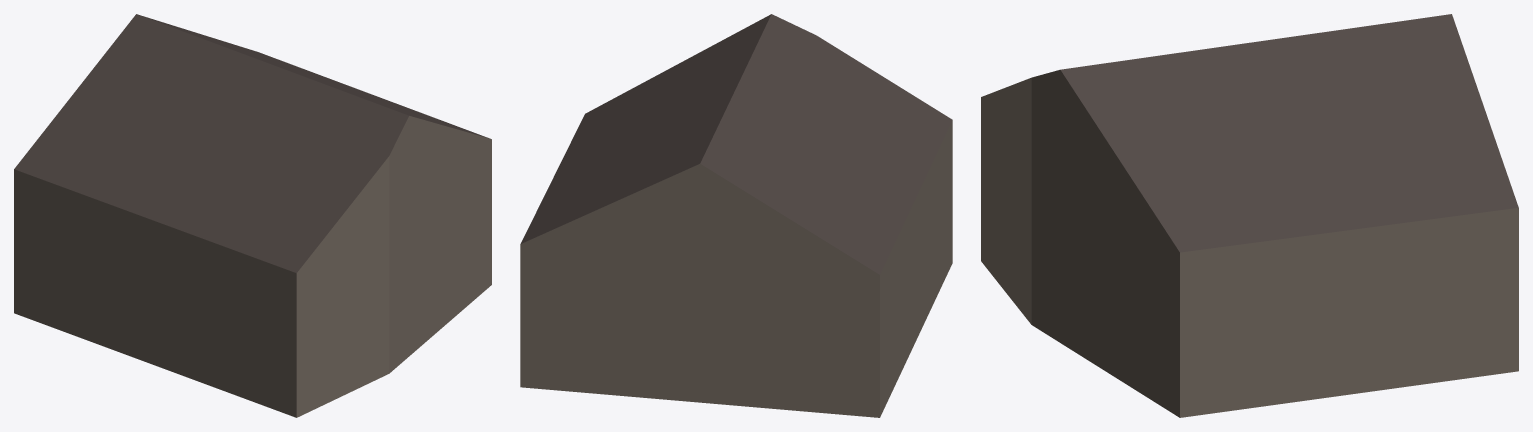
3 renders of one model, left to right at view 1: azimuth 30°, elevation 25°; view 2: azimuth 150°, elevation 25°; view 3: azimuth 270°, elevation 25°, orthographic. The views are drawn at different scales.
Parts seen in each view (by area): view 1: HP-w1376988821; view 2: HP-w1376988821; view 3: HP-w1376988821.
Part boxes in pixels (left/top/right/bottom): HP-w1376988821: left=14, top=14, right=491, bottom=417; HP-w1376988821: left=520, top=14, right=952, bottom=417; HP-w1376988821: left=981, top=14, right=1518, bottom=417.
Bounding box in the file's own units: 16.88 × 10.03 × 17.87.
